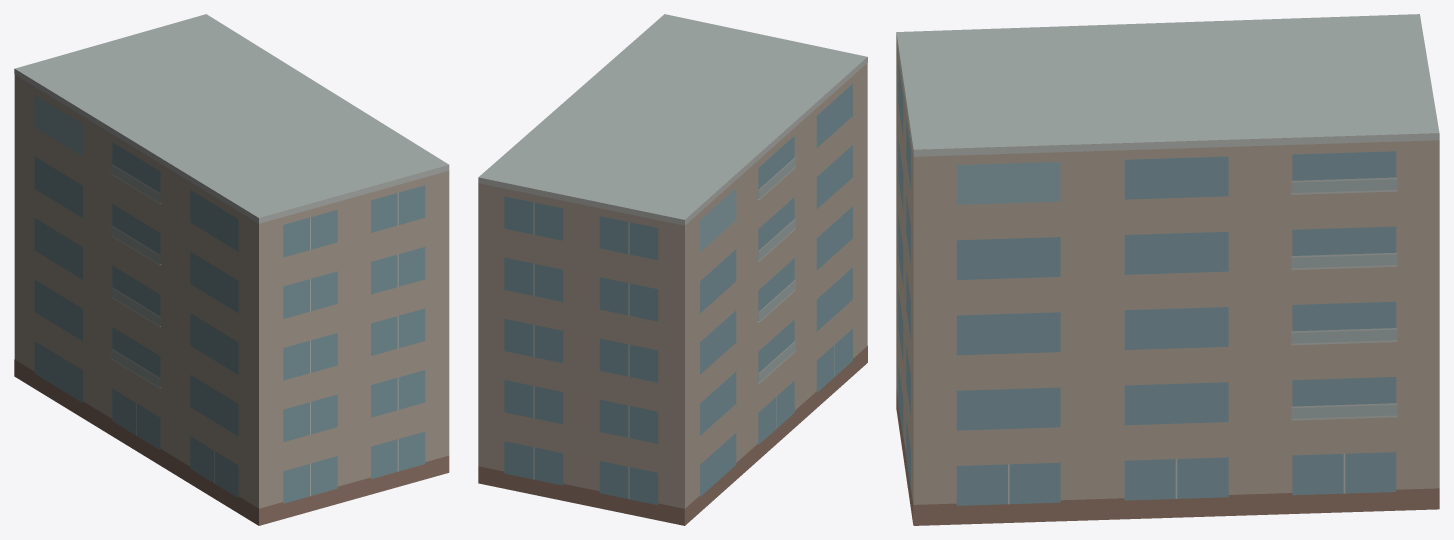
File: survey-upis-32995800.glb
3 views of the same model, side by side, from view 1: azimuth 30°, elevation 25°; view 2: azimuth 150°, elevation 25°; view 3: azimuth 270°, elevation 25° (orthographic). The views are drawn at different scales.
Visible parts, largest first — view 1: survey-upis-32995800.tmp; view 2: survey-upis-32995800.tmp; view 3: survey-upis-32995800.tmp.
Boxes of the visible parts, left/top/right/bottom form: survey-upis-32995800.tmp: left=14, top=14, right=449, bottom=525; survey-upis-32995800.tmp: left=478, top=14, right=867, bottom=525; survey-upis-32995800.tmp: left=896, top=14, right=1439, bottom=525.
Size of the model in its own units: 9.99 by 12.9 by 16.89.
